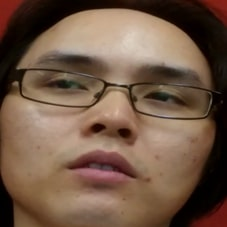drowsy: (30, 43, 208, 214)
